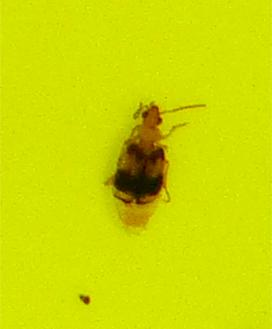Coleoptera: (100, 100, 172, 229)
